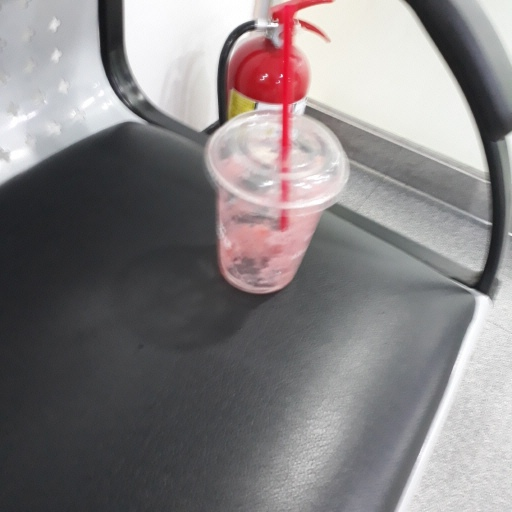Plastic_2: (203, 104, 349, 297)
